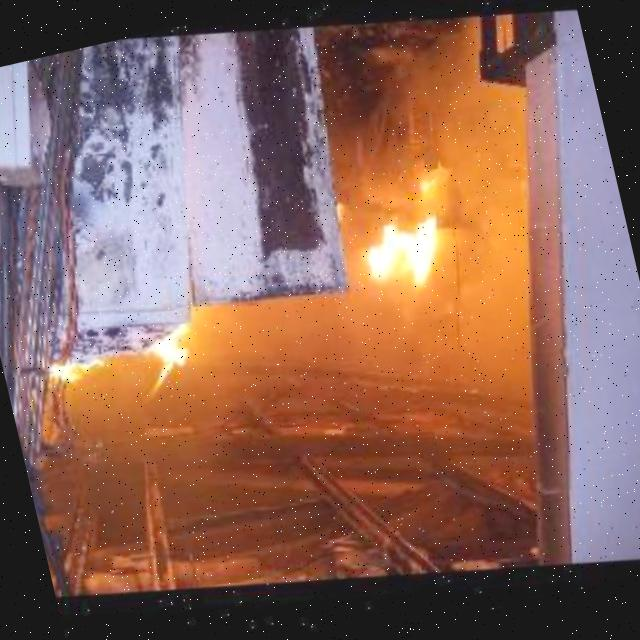fire: (343, 207, 445, 306), (119, 316, 205, 412), (39, 352, 106, 397)
